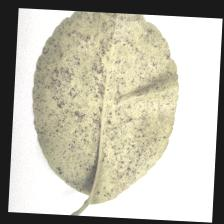canker: (38, 27, 168, 174)
